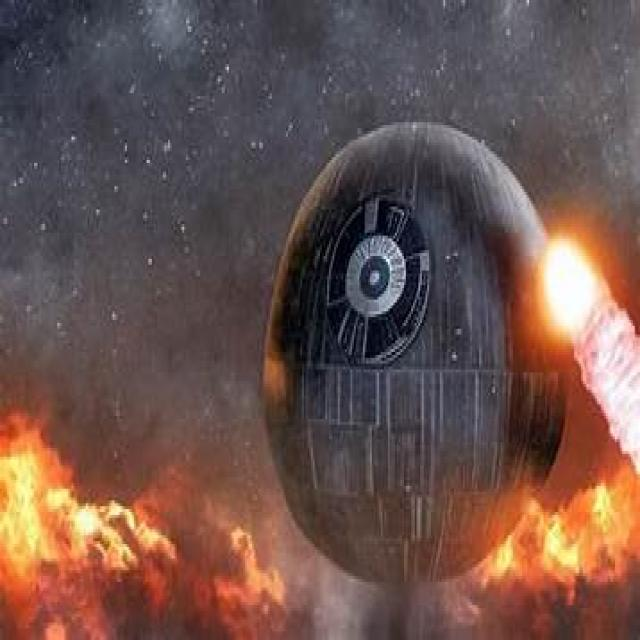deathStar: (266, 120, 568, 592)
